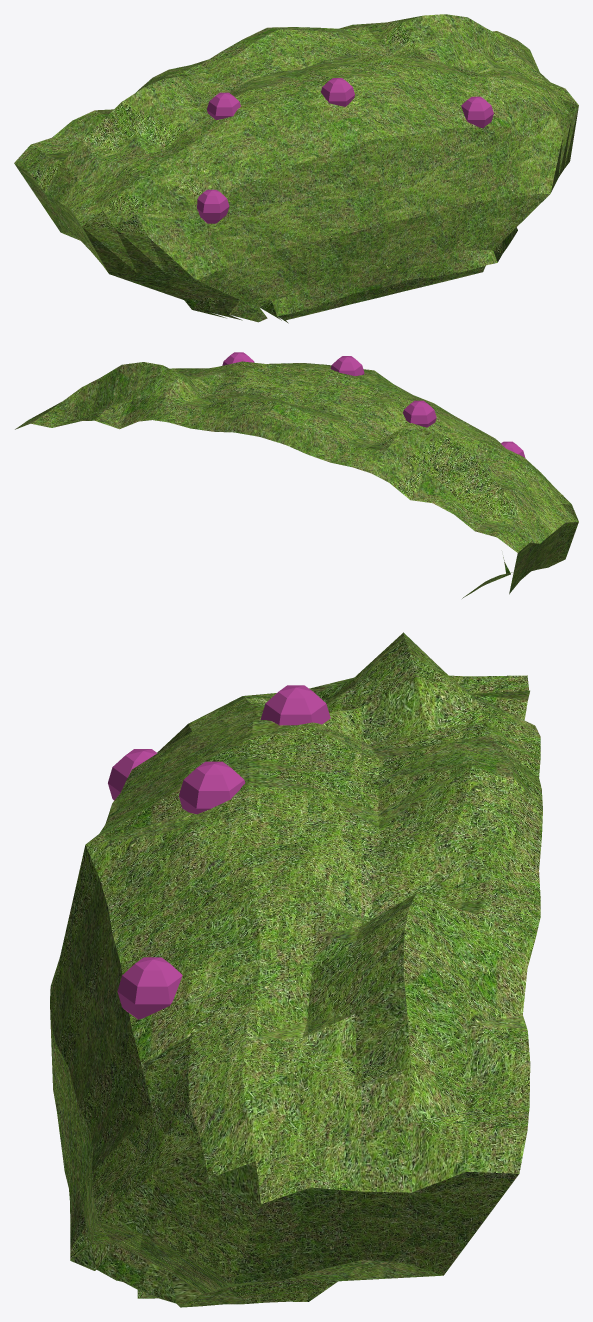
The model's file is grass.glb.
3 views of the same model, one above another, from view 1: azimuth 30°, elevation 25°; view 2: azimuth 150°, elevation 25°; view 3: azimuth 270°, elevation 25° (orthographic). The views are drawn at different scales.
Visible parts, largest first — view 1: model, Sphere; view 2: model, Sphere; view 3: model, Sphere.
Boxes of the visible parts, box(x1,y1,x2,y2) form: model: box(14, 14, 578, 323); Sphere: box(197, 78, 493, 223); model: box(15, 361, 578, 598); Sphere: box(222, 352, 525, 458); model: box(50, 632, 542, 1307); Sphere: box(108, 685, 330, 1019).
Size of the model in its own units: 1.55 by 0.6075 by 0.6574.
2 materials, 1 textured.
